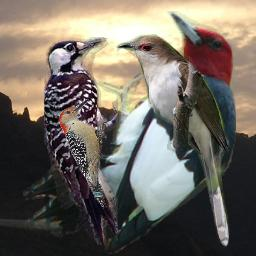Cuckoo: (115, 34, 231, 248)
Woodpecker: (23, 11, 236, 254), (44, 37, 118, 245), (59, 98, 107, 209)
